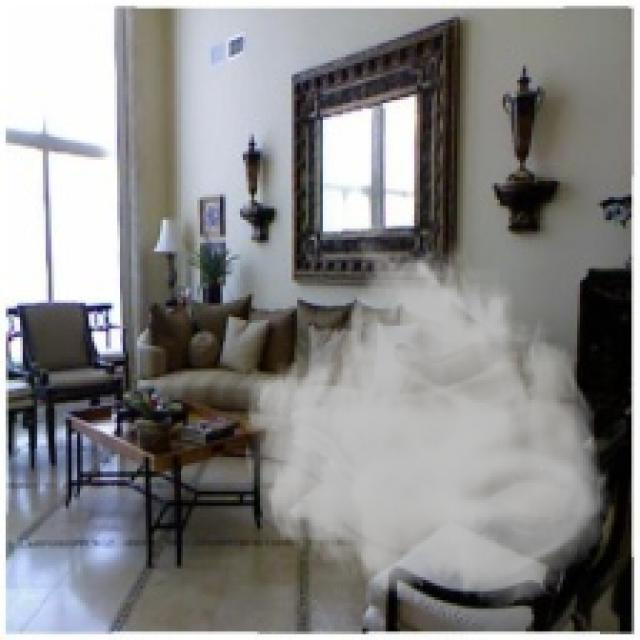smoke: (240, 232, 614, 612)
